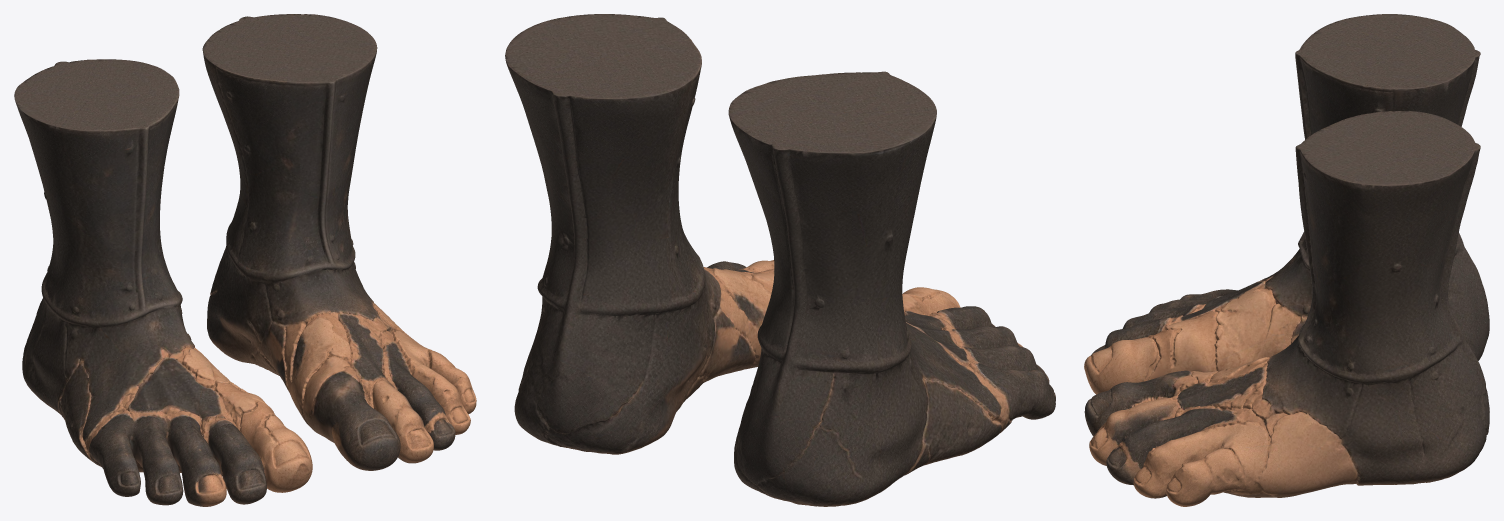
File: feet_iron_clay.glb
3 renders of one model, left to right at view 1: azimuth 30°, elevation 25°; view 2: azimuth 150°, elevation 25°; view 3: azimuth 270°, elevation 25°, orthographic. The views are drawn at different scales.
Visible parts, largest first — view 1: mesh_node; view 2: mesh_node; view 3: mesh_node.
Boxes of the visible parts, left/top/right/bottom form: mesh_node: left=14, top=14, right=476, bottom=506; mesh_node: left=505, top=14, right=1055, bottom=506; mesh_node: left=1084, top=14, right=1489, bottom=506.
Bounding box in the file's own units: 1.9 × 1.55 × 1.78.
Materials: 1 (1 with a texture image).
